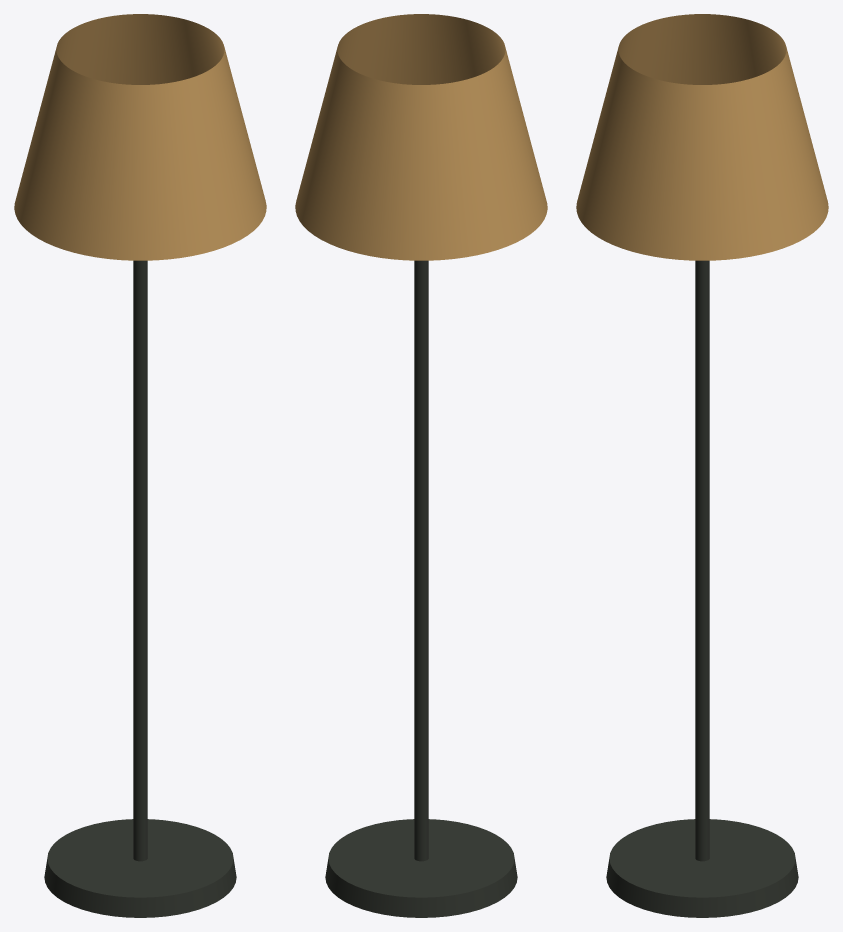
The model's file is beam-lamp-ochre.glb.
The picture shows the model from 3 angles, left to right: view 1: azimuth 30°, elevation 25°; view 2: azimuth 150°, elevation 25°; view 3: azimuth 270°, elevation 25°; orthographic projection.
Parts seen in each view (by area): view 1: The Beam Lamp — Ochre; view 2: The Beam Lamp — Ochre; view 3: The Beam Lamp — Ochre.
Boxes of the visible parts, x1,y1,x2,y2 form: The Beam Lamp — Ochre: [14, 14, 266, 917]; The Beam Lamp — Ochre: [295, 14, 547, 917]; The Beam Lamp — Ochre: [576, 14, 828, 917].
Size of the model in its own units: 0.42 by 1.52 by 0.42.
